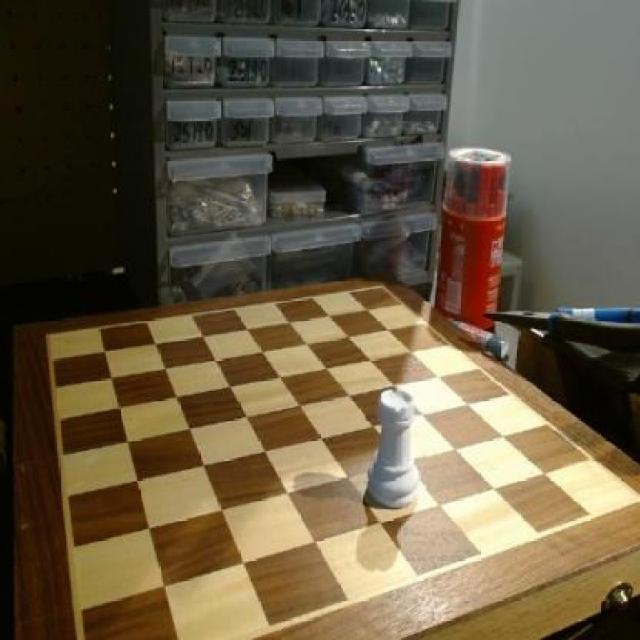white-queen: (366, 384, 426, 508)
